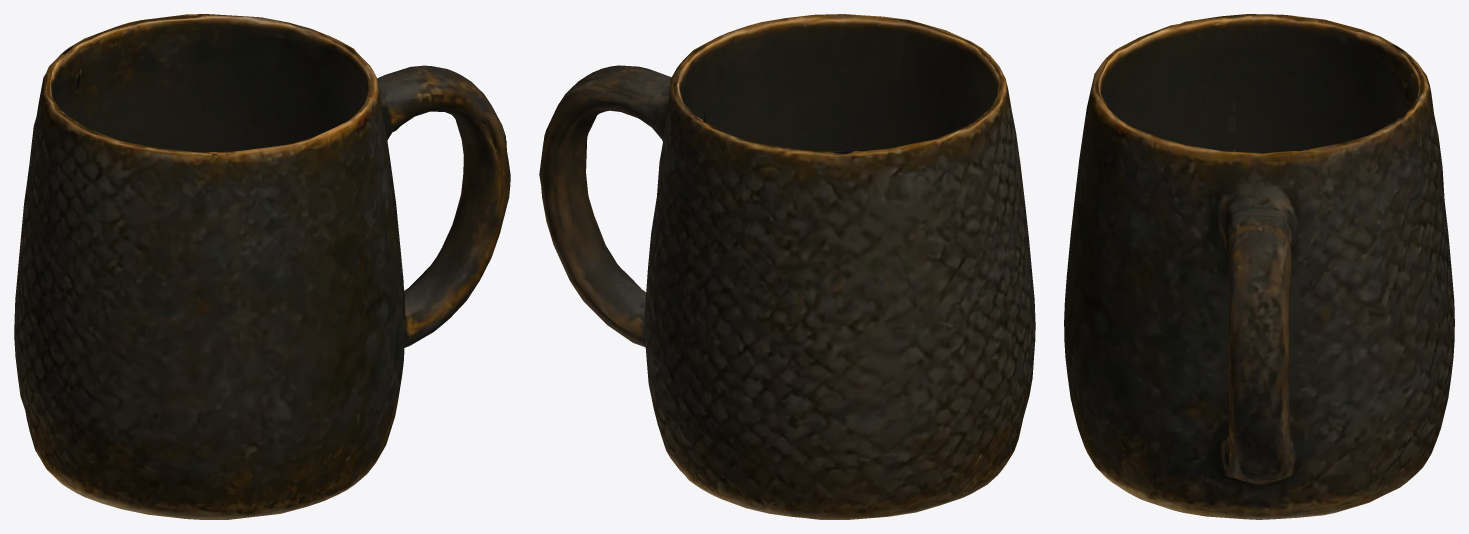
Rendered from mobile.glb.
3 renders of one model, left to right at view 1: azimuth 30°, elevation 25°; view 2: azimuth 150°, elevation 25°; view 3: azimuth 270°, elevation 25°, orthographic.
Parts seen in each view (by area): view 1: mug; view 2: mug; view 3: mug.
Boxes of the visible parts, x1,y1,x2,y2 form: mug: (14,14,510,519); mug: (539,14,1035,519); mug: (1064,14,1454,519).
Size of the model in its own units: 0.1313 by 0.1 by 0.0957.
Materials: 1 (1 with a texture image).
